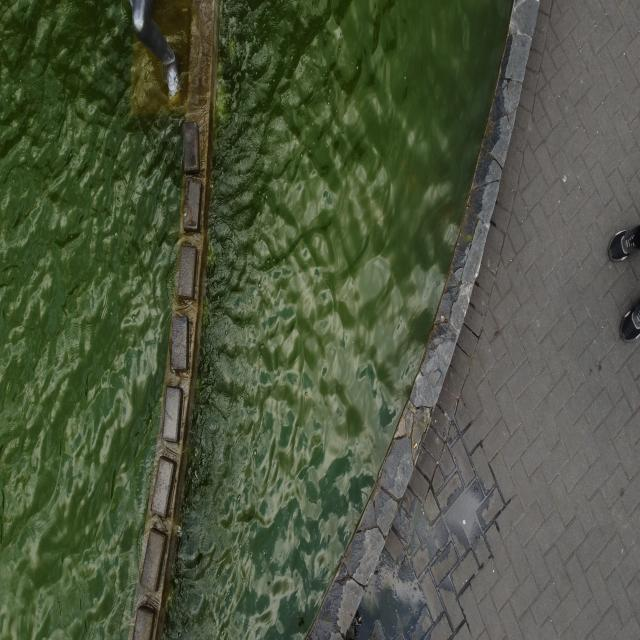Ponds: (130, 2, 542, 640), (1, 1, 217, 640)
